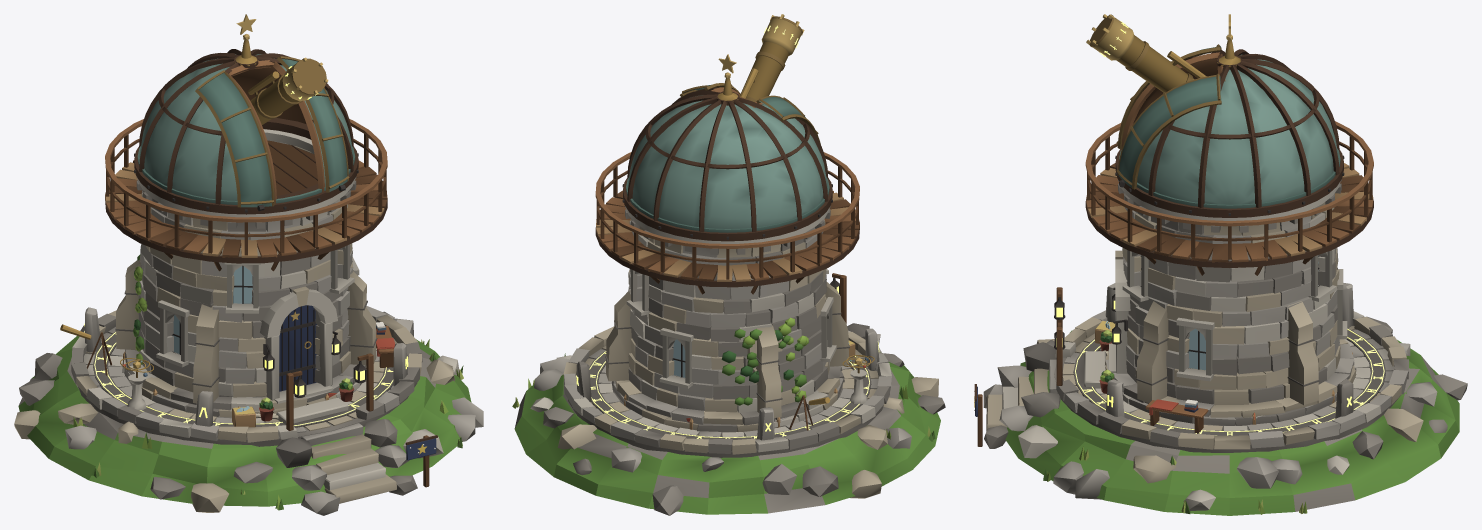
File: observatory.glb
3 renders of one model, left to right at view 1: azimuth 30°, elevation 25°; view 2: azimuth 150°, elevation 25°; view 3: azimuth 270°, elevation 25°, orthographic. The views are drawn at different scales.
Parts seen in each view (by area): view 1: stage_01_mesh, stage_02_mesh, stage_05_mesh, stage_08_mesh, stage_07_mesh, stage_10_mesh, stage_09_mesh, stage_11_mesh, stage_04_mesh, stage_06_mesh, stage_03_mesh, stage_13_mesh (+4 smaller); view 2: stage_01_mesh, stage_10_mesh, stage_08_mesh, stage_05_mesh, stage_02_mesh, stage_04_mesh, stage_09_mesh, stage_07_mesh, stage_03_mesh, stage_13_mesh, stage_15_mesh, telescope (+2 smaller); view 3: stage_01_mesh, stage_02_mesh, stage_10_mesh, stage_08_mesh, stage_05_mesh, stage_04_mesh, stage_09_mesh, stage_07_mesh, stage_03_mesh, stage_11_mesh, stage_13_mesh, telescope (+4 smaller).
Part boxes in pixels (x1,y1,x2,y2): stage_01_mesh: [14, 311, 483, 512]; stage_02_mesh: [71, 305, 422, 515]; stage_05_mesh: [136, 129, 356, 322]; stage_08_mesh: [105, 119, 387, 271]; stage_07_mesh: [115, 244, 377, 403]; stage_10_mesh: [137, 54, 355, 204]; stage_09_mesh: [134, 49, 358, 214]; stage_11_mesh: [195, 14, 349, 211]; stage_04_mesh: [137, 280, 350, 397]; stage_06_mesh: [260, 286, 337, 403]; stage_03_mesh: [122, 349, 366, 424]; stage_13_mesh: [85, 307, 407, 427]; stage_01_mesh: [512, 352, 945, 515]; stage_10_mesh: [626, 95, 829, 232]; stage_08_mesh: [595, 152, 859, 294]; stage_05_mesh: [625, 206, 830, 341]; stage_02_mesh: [563, 323, 891, 457]; stage_04_mesh: [628, 297, 829, 412]; stage_09_mesh: [622, 87, 832, 241]; stage_07_mesh: [605, 268, 849, 418]; stage_03_mesh: [612, 366, 844, 432]; stage_13_mesh: [576, 328, 879, 440]; stage_15_mesh: [721, 317, 874, 430]; telescope: [739, 16, 802, 102]; stage_01_mesh: [1005, 316, 1467, 515]; stage_02_mesh: [983, 310, 1408, 452]; stage_10_mesh: [1119, 54, 1340, 208]; stage_08_mesh: [1085, 121, 1373, 275]; stage_05_mesh: [1118, 179, 1341, 327]; stage_04_mesh: [1126, 289, 1340, 405]; stage_09_mesh: [1115, 49, 1344, 217]; stage_07_mesh: [1122, 250, 1347, 405]; stage_03_mesh: [1084, 339, 1356, 425]; stage_11_mesh: [1116, 14, 1240, 189]; stage_13_mesh: [1073, 283, 1385, 435]; telescope: [1089, 14, 1206, 92].
Bounding box in the file's own units: 10.74 × 10.54 × 11.37.
